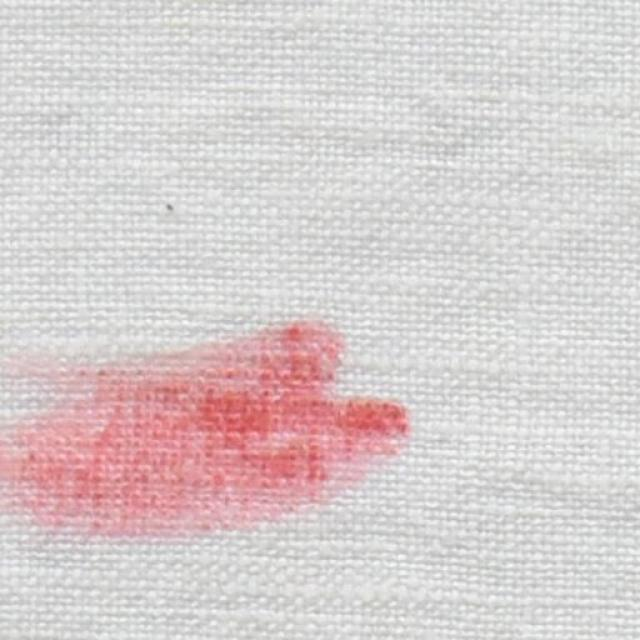Stain: (0, 322, 410, 538)
